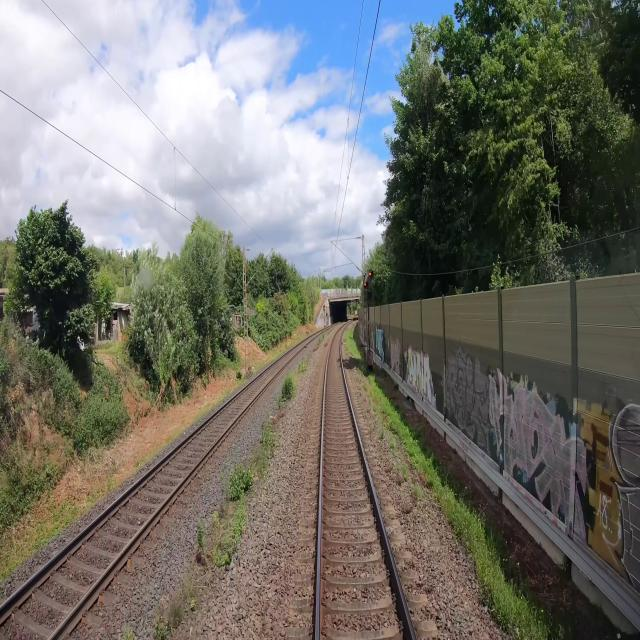Plant: (120, 353, 314, 639), (316, 328, 333, 348)
